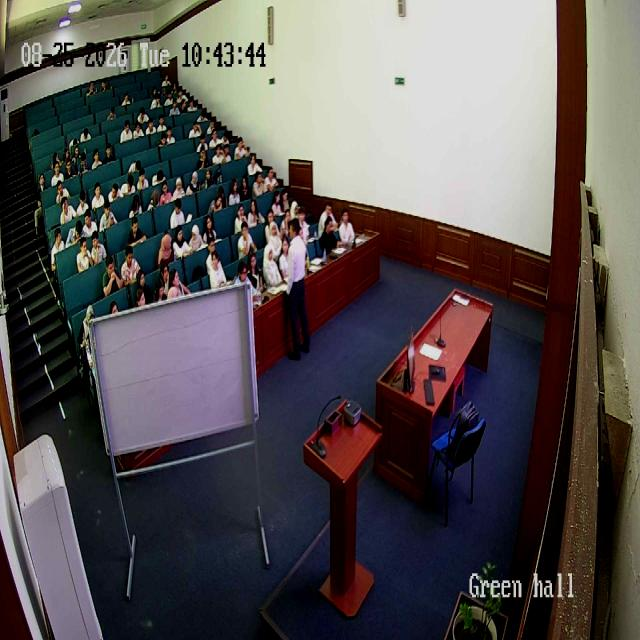person: (284, 215, 311, 360), (78, 303, 98, 415), (205, 241, 227, 289), (50, 223, 68, 280), (120, 245, 142, 288), (263, 243, 283, 289), (102, 255, 123, 298), (130, 268, 152, 308), (34, 171, 48, 232), (236, 260, 258, 298), (237, 218, 257, 258), (247, 251, 265, 294), (152, 265, 172, 303), (167, 266, 190, 298), (75, 234, 93, 274), (265, 220, 283, 260), (90, 229, 108, 267), (171, 225, 189, 263), (318, 203, 336, 241), (321, 216, 338, 256), (338, 207, 355, 245), (158, 232, 175, 269), (126, 217, 146, 248), (59, 193, 77, 227), (99, 200, 118, 232), (169, 196, 186, 230), (64, 212, 80, 248), (187, 223, 205, 253), (279, 235, 291, 280), (202, 216, 219, 247), (297, 209, 311, 245), (248, 196, 263, 228), (234, 202, 248, 234), (73, 190, 89, 218), (82, 210, 98, 238), (172, 171, 187, 200), (90, 181, 106, 206), (187, 172, 203, 196), (235, 138, 250, 162), (253, 169, 266, 196), (109, 178, 122, 204), (138, 169, 151, 195), (246, 150, 259, 176), (228, 179, 241, 205), (264, 162, 277, 188), (129, 194, 143, 218), (118, 120, 131, 144), (122, 172, 136, 194), (209, 193, 223, 215), (154, 111, 168, 132), (160, 182, 172, 205), (49, 151, 64, 169), (51, 163, 63, 185), (212, 142, 223, 166), (90, 150, 103, 170), (150, 186, 160, 212), (280, 188, 290, 214), (131, 120, 144, 140), (271, 189, 280, 217), (124, 160, 144, 172), (290, 198, 300, 222), (210, 129, 223, 147), (241, 173, 250, 198), (188, 120, 202, 136), (203, 170, 214, 190), (222, 143, 232, 164), (150, 97, 164, 112), (77, 156, 88, 175), (102, 145, 113, 164), (166, 125, 175, 147), (198, 134, 207, 155), (145, 119, 156, 136), (171, 101, 181, 119), (221, 125, 229, 147), (85, 81, 95, 98), (175, 88, 186, 103), (121, 92, 131, 108), (62, 146, 72, 162), (136, 290, 146, 306), (153, 170, 165, 183), (137, 107, 149, 120), (164, 93, 176, 106), (108, 303, 121, 315), (80, 129, 91, 143), (65, 160, 74, 177), (178, 96, 187, 112), (150, 86, 160, 100), (198, 150, 205, 169), (159, 131, 169, 144), (108, 107, 116, 122), (164, 71, 172, 86), (187, 98, 195, 111), (72, 144, 80, 157), (199, 108, 206, 121), (208, 116, 214, 131), (100, 82, 108, 90), (70, 138, 78, 146)
